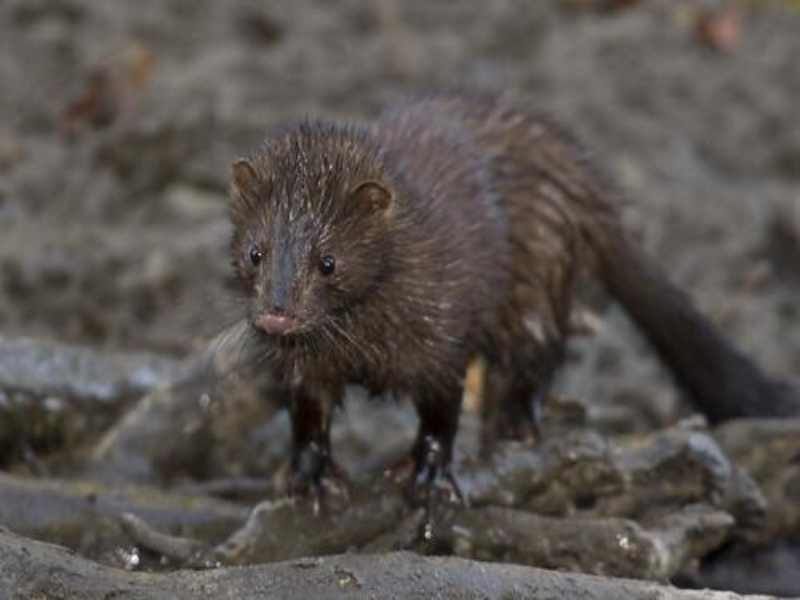minkish: (222, 91, 730, 508)
